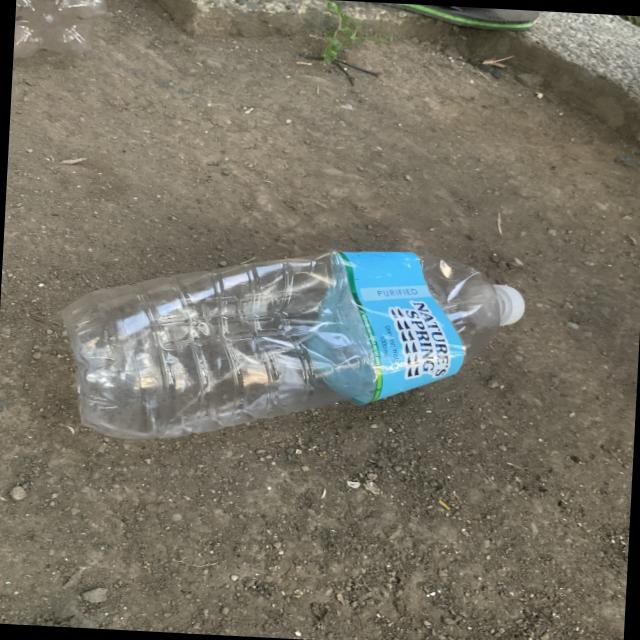Bottle: (63, 252, 524, 438)
